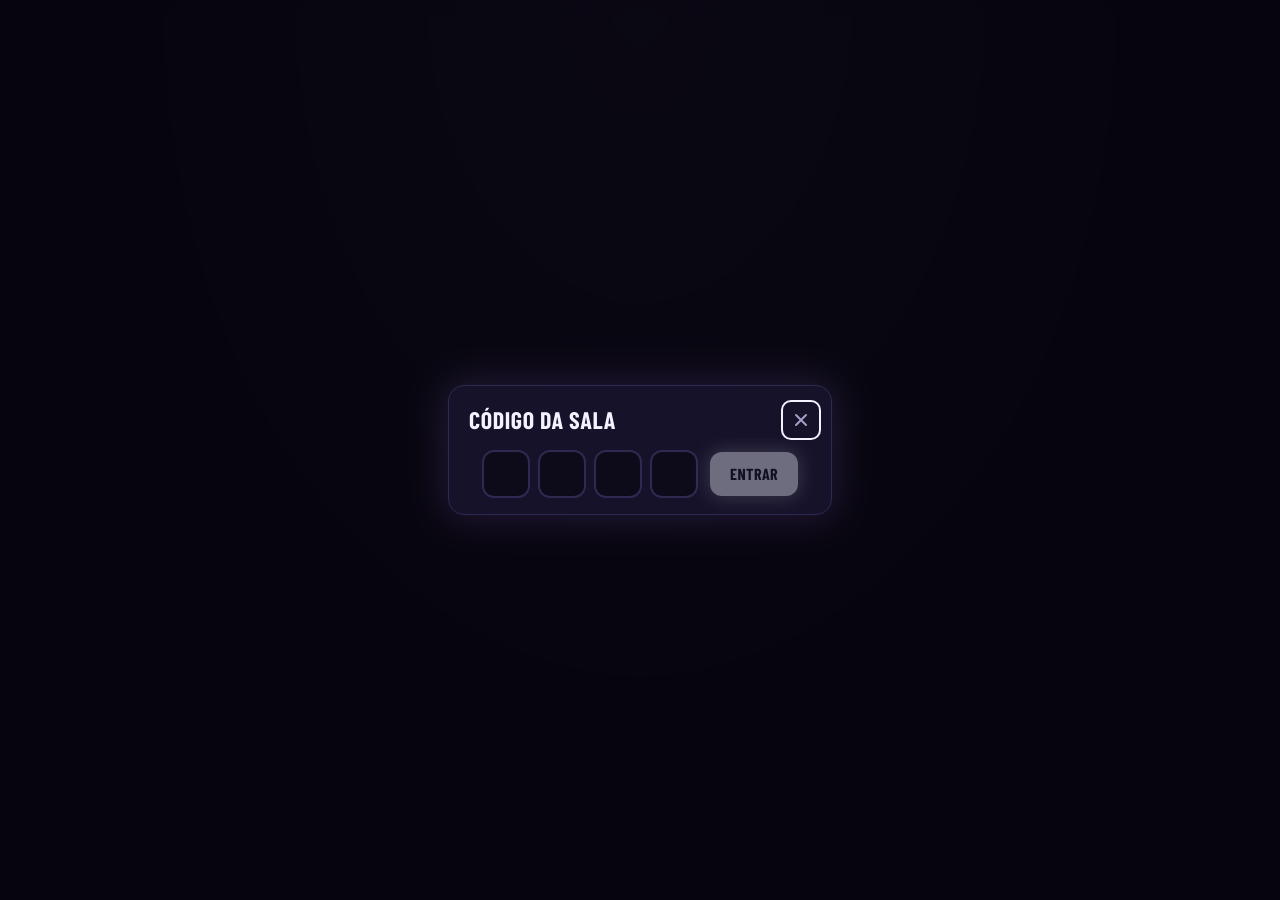
Test: JoinRoomModal › colar "4821" no primeiro campo preenche os 4
The image size is (1280, 900).
Click the field named "Dígito 1".
click(506, 474)  # box [482,450,530,498]
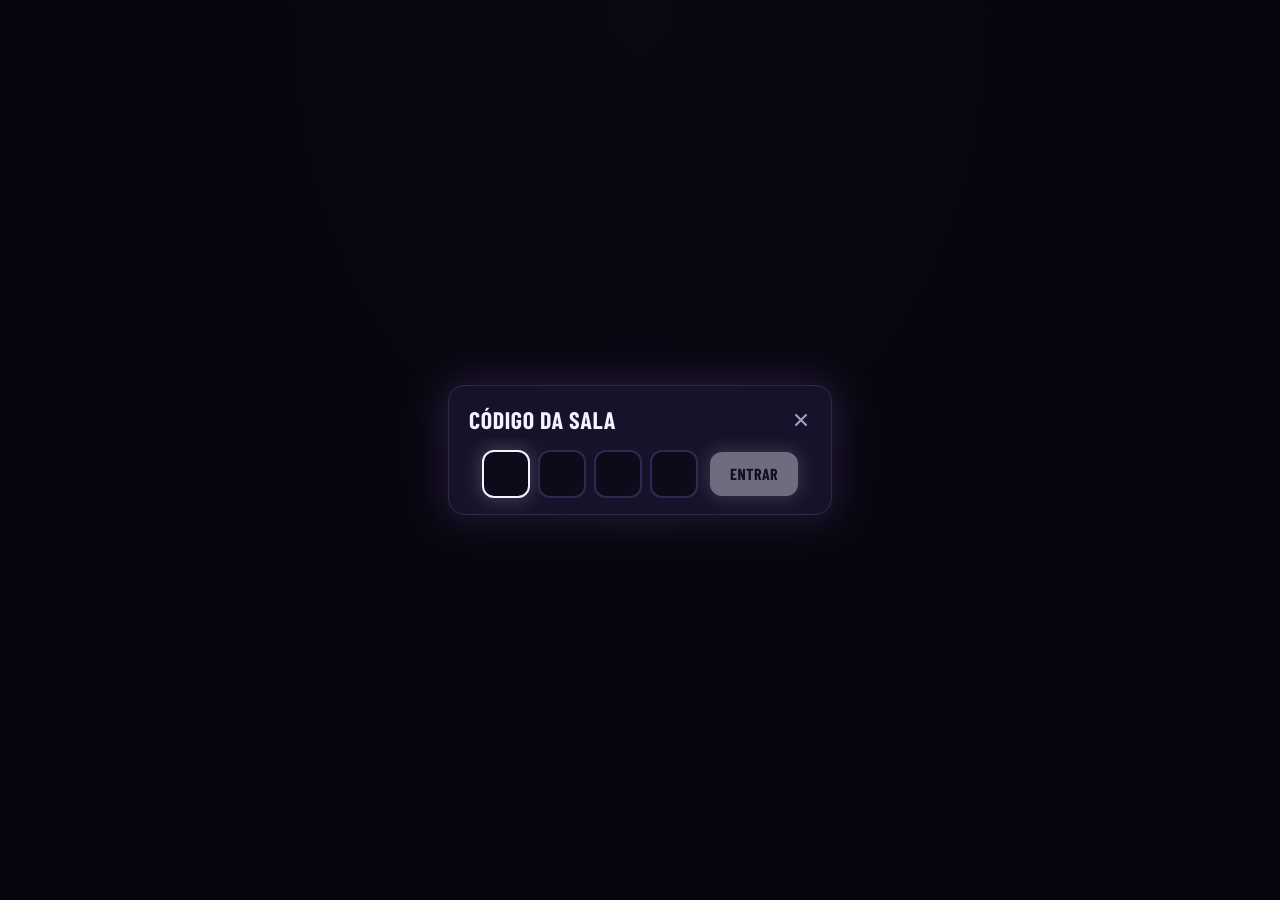
Type keys "4821"
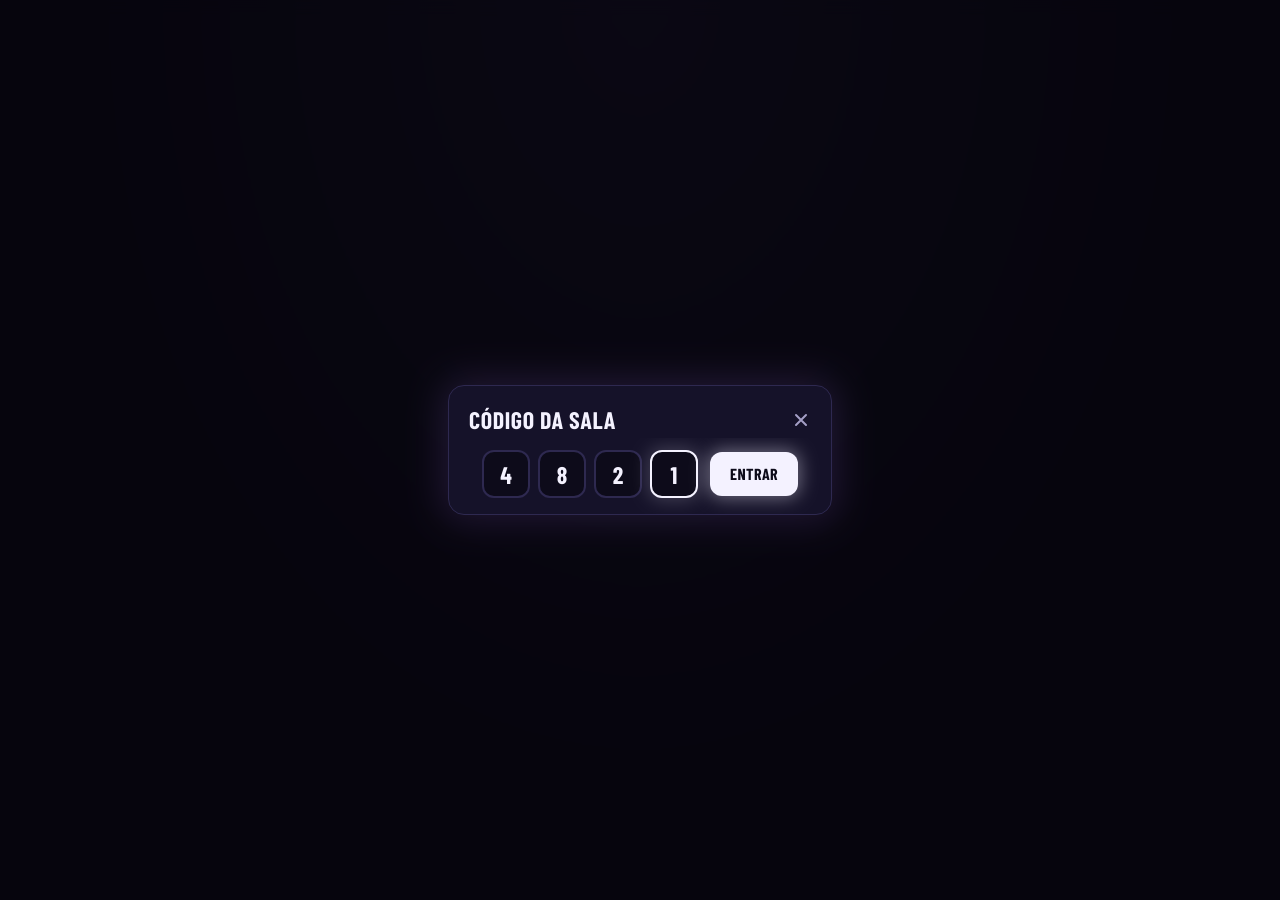
Expected: the button "Entrar" is enabled, [710,452,798,496]
